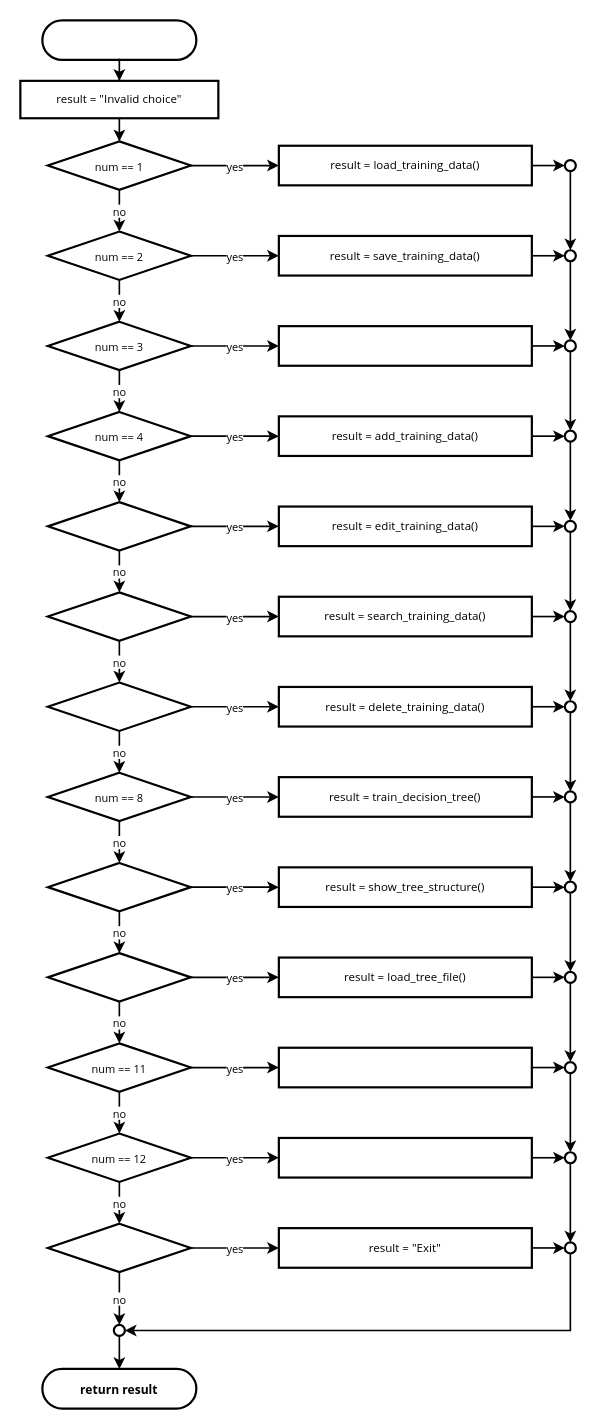
The diagram is 598 pixels wide and 1428 high, and some of its shapes have lost their labels. Each missing label, with the centre of its shape:
num == 10: (118,977)
num == 13: (118,1247)
num == 5: (118,526)
num == 6: (118,616)
num == 7: (118,706)
num == 9: (118,886)
process(num): (119,40)
result = save_tree_file(): (404,1067)
result = show_training_data(): (404,345)
result = test_decision_tree(): (404,1157)
